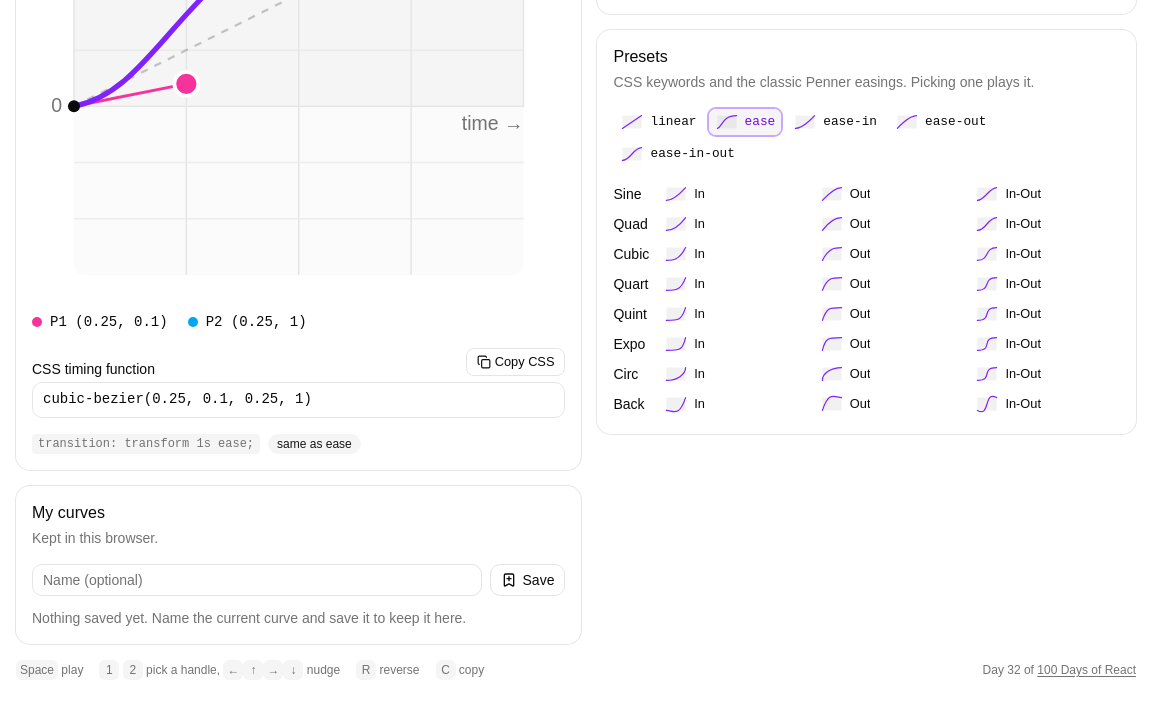
Test case: editing the curve › explains bad CSS, keeps the curve, and Escape throws the draft away
(page scrolled)
Replace the text in the text box labelled "CSS timing function" with "1.5, 0, 1, 1": (299, 400) [32,382,566,418]
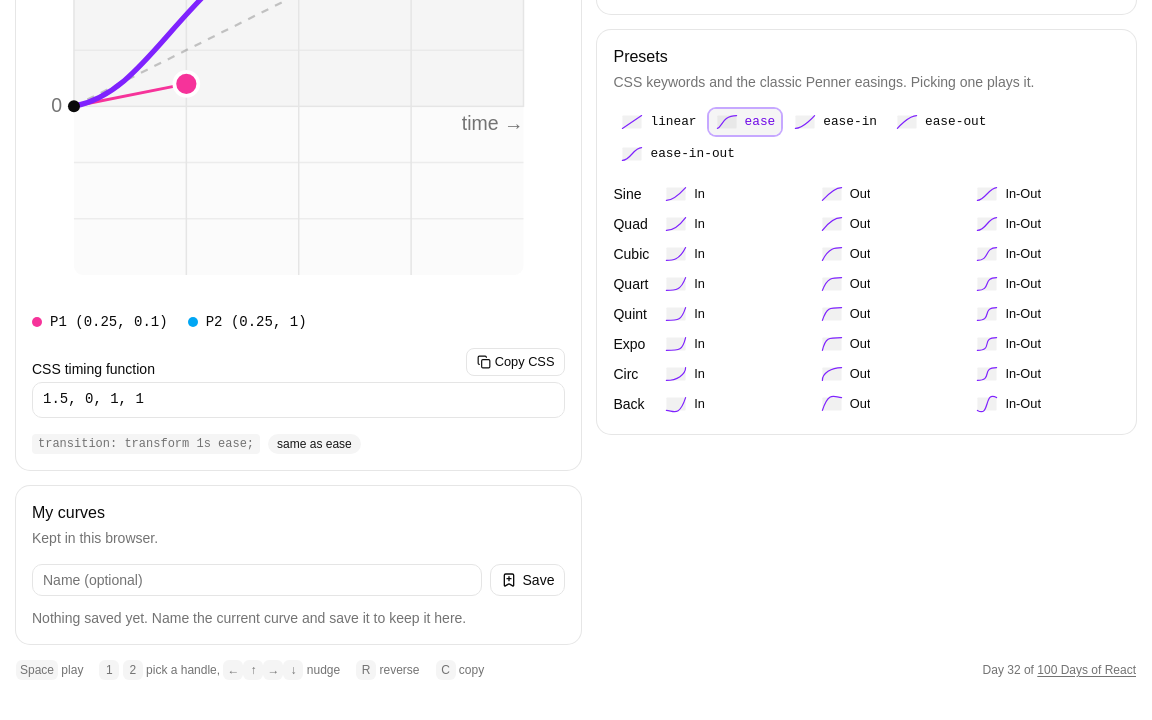
Press Enter in the text box labelled "CSS timing function", box [32,382,566,418]
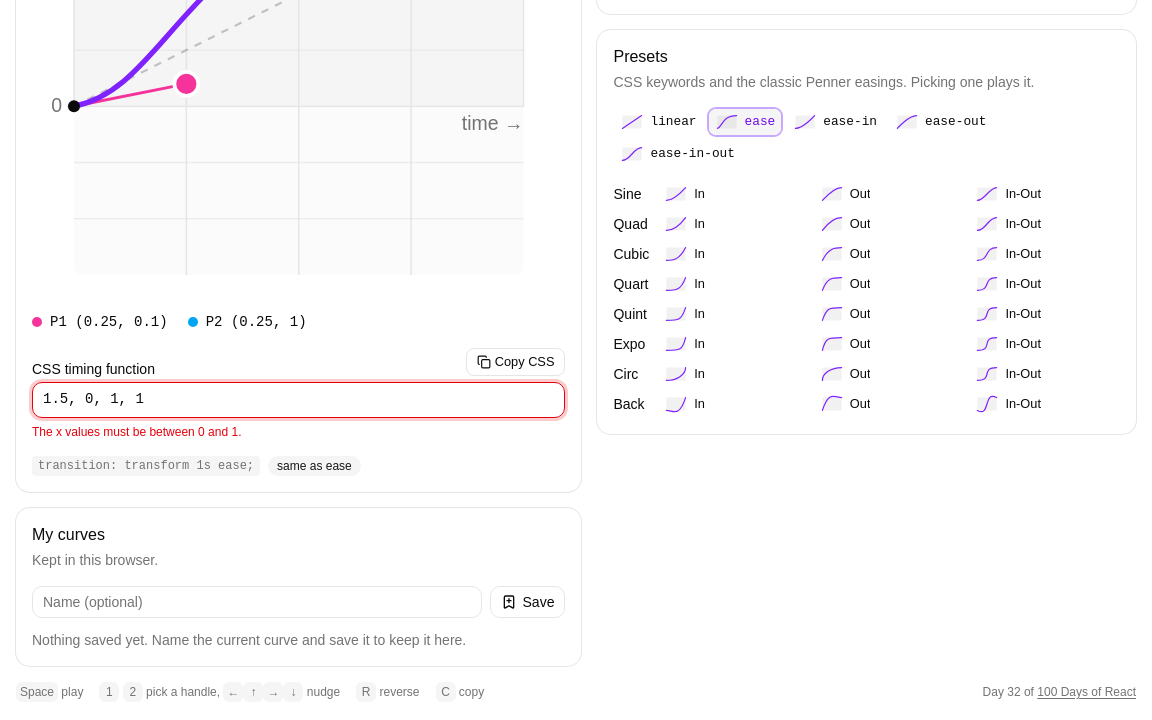
Expected: the text "The x values must be between 0 and 1." is shown, [32,425,242,439]
Press Escape in the text box labelled "CSS timing function", box [32,382,566,418]
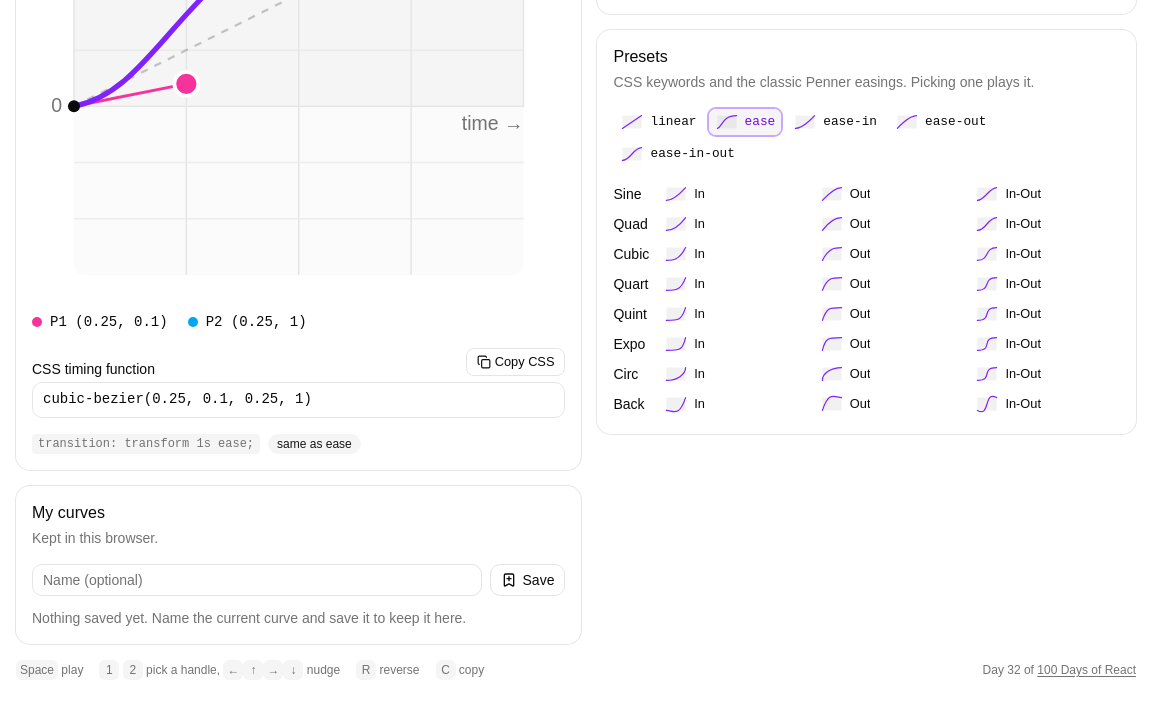
Expected: the text box labelled "CSS timing function" holds "cubic-bezier(0.25, 0.1, 0.25, 1)", [32,382,566,418]
Expected: the text "x values" is gone
